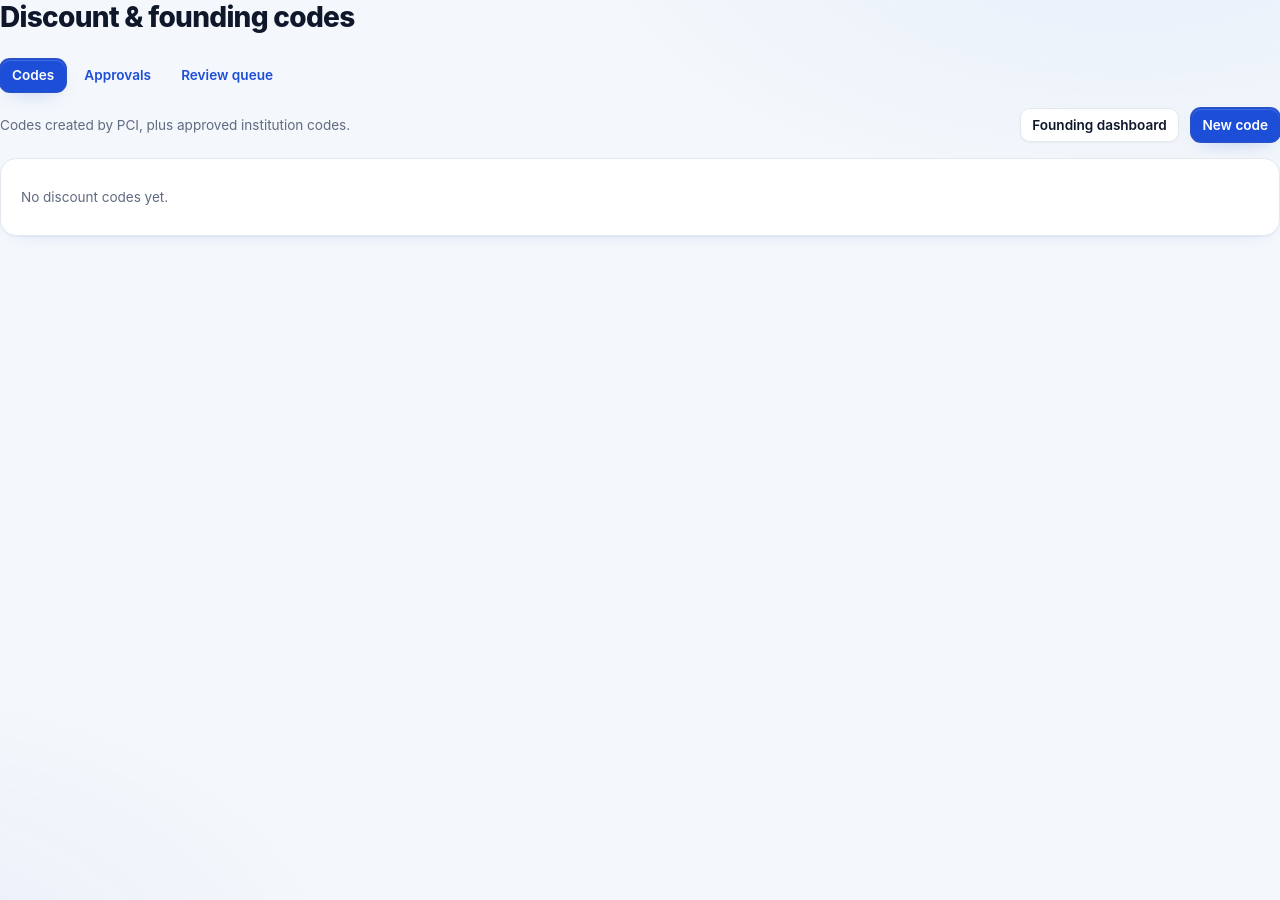
Codes admin console › create code form › keeps Create disabled until a standard code has both a code and a value
Click the button "New code" at (1235, 125), box [1190, 108, 1279, 142]
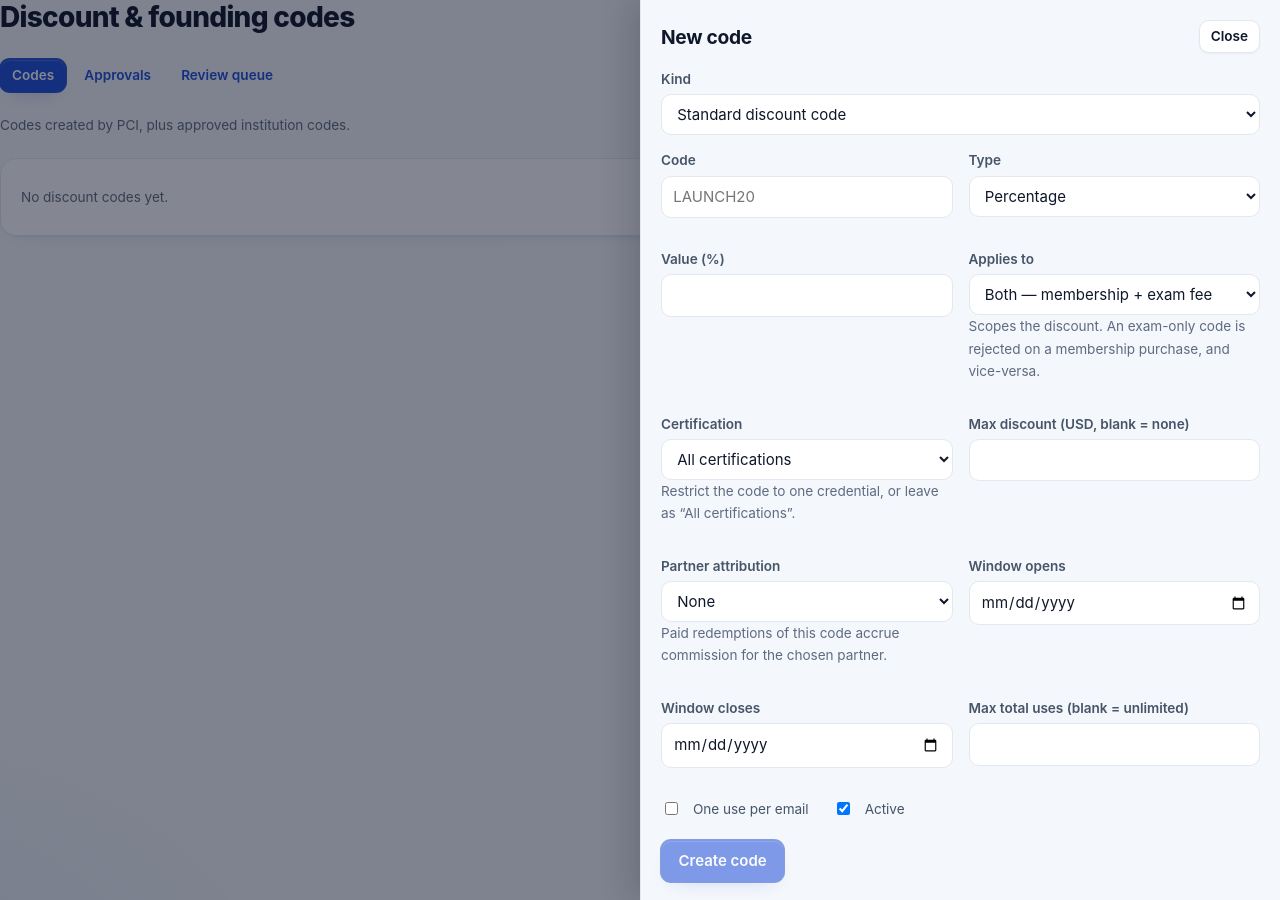
Now the button "Create code" is disabled, box [661, 840, 784, 882]
Type "save25" into the field with placeholder "LAUNCH20" at (807, 197), box [661, 176, 952, 218]
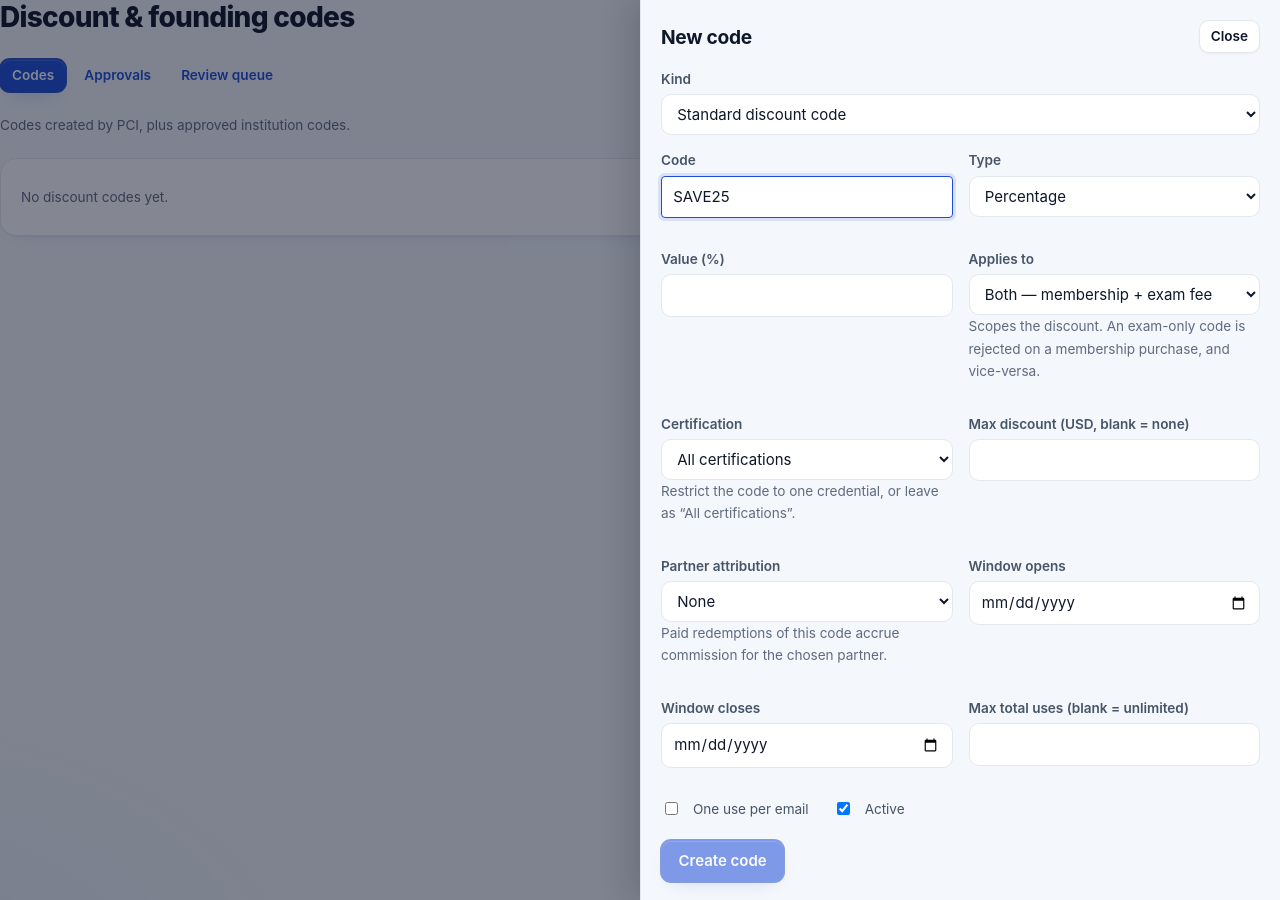
Now the button "Create code" is disabled, box [661, 840, 784, 882]
Type "25" into the number field below "Value" at (807, 295), box [661, 274, 952, 317]
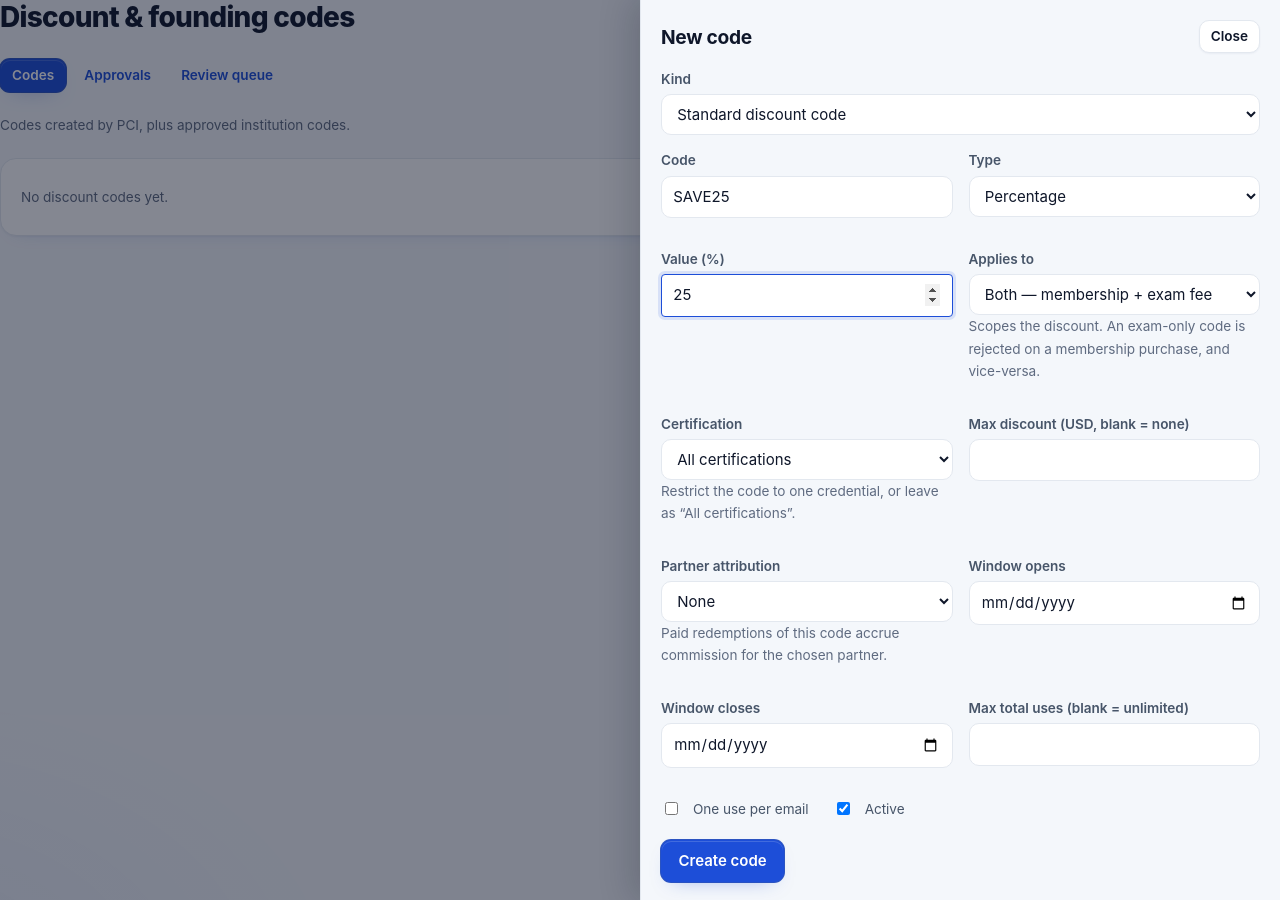
Now the button "Create code" is enabled, box [661, 840, 784, 882]
